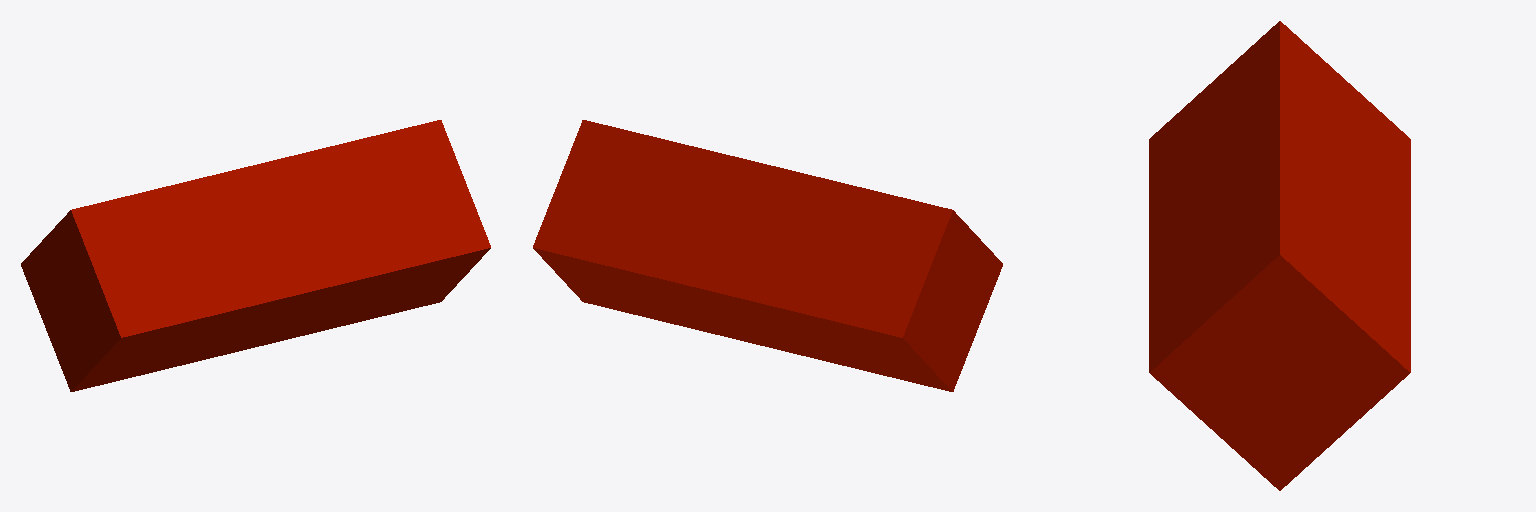
robot.urdf — obj_6:
<robot name="obj_6" version="1.0">
  <link name="link_6">
    <collision name="6-collision.001">
      <origin rpy="0.00000 0.00000 -0.78557" xyz="-0.37582 0.37331 0.33337"/>
      <geometry>
        <mesh filename="../meshes/obj/6-collision.001.obj" scale="1.00000 1.00000 1.00000"/>
      </geometry>
    </collision>
    <inertial>
      <inertia ixx="0.00011" ixy="0.00007" ixz="-0.00000" iyy="0.00011" iyz="0.00000" izz="0.00019"/>
      <origin rpy="0.00000 0.00000 0.00000" xyz="-0.37582 0.37331 0.33337"/>
      <mass value="0.01000"/>
    </inertial>
    <visual name="6">
      <material name="turnarrow_vermillion"/>
      <origin rpy="0.78540 -0.00000 -0.00017" xyz="-0.37582 0.37331 0.33337"/>
      <geometry>
        <mesh filename="../meshes/obj/6 part puzzle cube.005.obj" scale="0.00500 0.00500 0.00500"/>
      </geometry>
    </visual>
  </link>
  <material name="turnarrow_vermillion">
    <color rgba="0.66275 0.10980 0.00000 1.00000"/>
  </material>
</robot>

--- What the picture shows (computed from the rendered views, not written in the file) ---
3 views of the same robot in one strip: view 1: azimuth 30°, elevation 25°; view 2: azimuth 150°, elevation 25°; view 3: azimuth 270°, elevation 25° (orthographic).
Model obj_6 with 1 links and 0 joints (none), rooted at link_6, posed all joints at 0.
Links seen in each view (by area): view 1: link_6; view 2: link_6; view 3: link_6.
Link boxes in pixels (left/top/right/bottom): link_6: left=21, top=120, right=490, bottom=391; link_6: left=533, top=120, right=1002, bottom=391; link_6: left=1149, top=21, right=1410, bottom=490.
Bounding box of the posed robot: 0.45 × 0.2122 × 0.2121 m (x, y, z).
Meshes: 1 distinct files referenced, 1 mesh visuals loaded (1 OBJ).